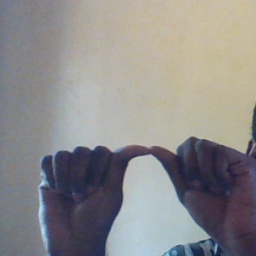A: (38, 134, 255, 238)
